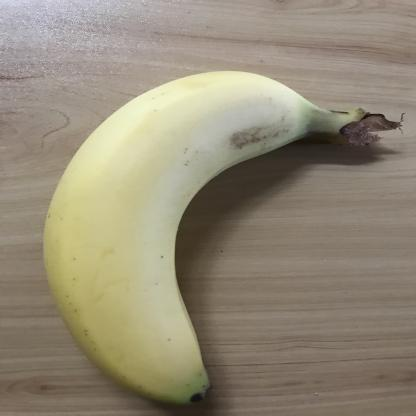banana: (35, 66, 406, 414)
